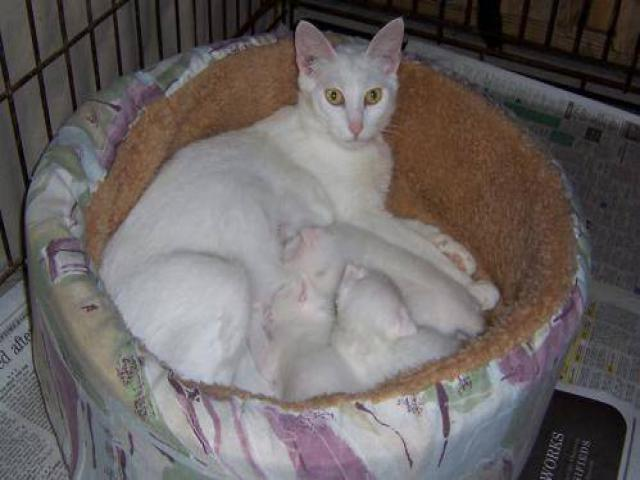cat: (82, 16, 496, 408)
